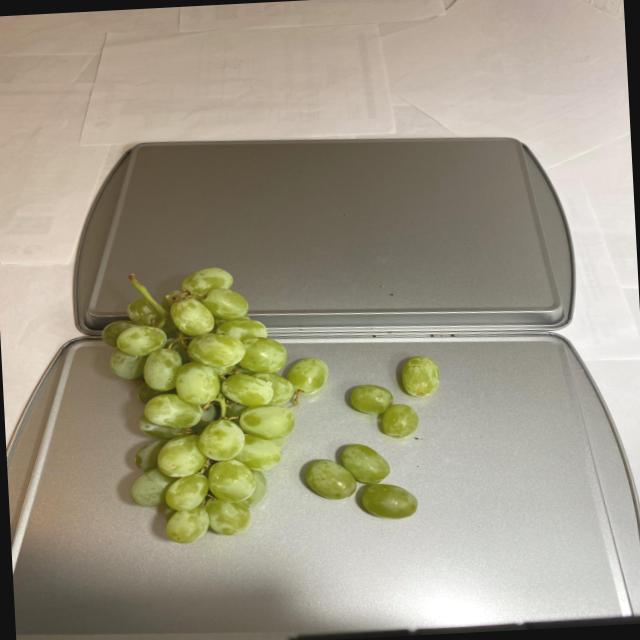grapes: (101, 256, 448, 545)
